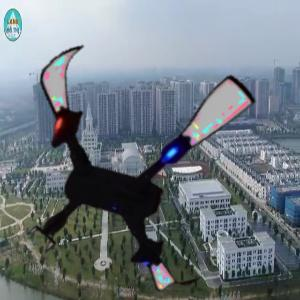drone: (1, 23, 276, 298)
